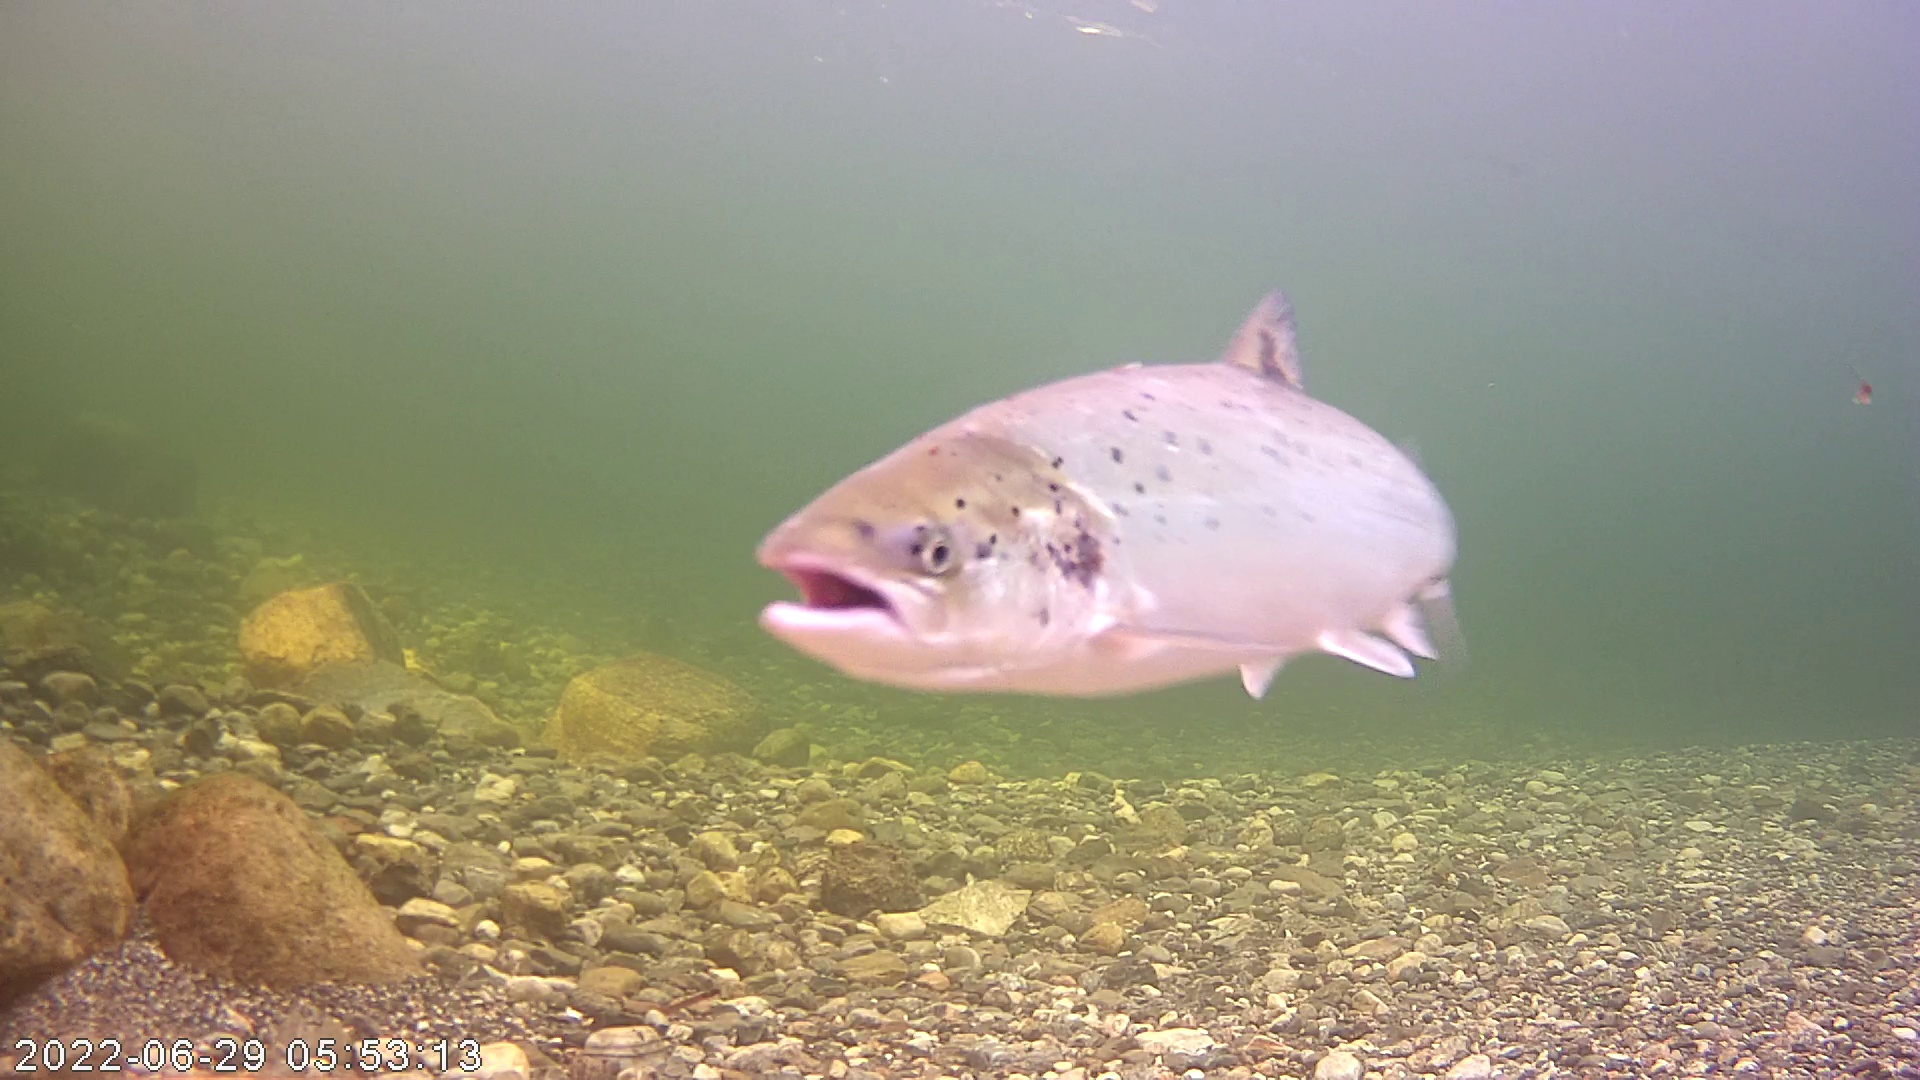salmon: (744, 236, 1478, 717)
